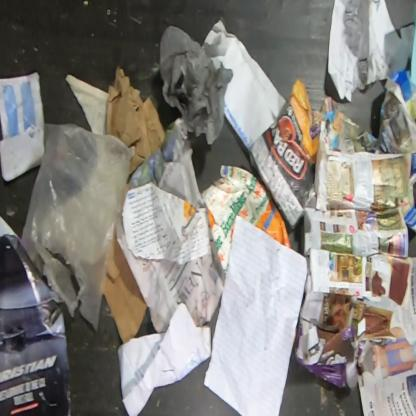cardboard: (203, 166, 292, 278), (108, 65, 166, 179), (104, 237, 148, 345)
soft_plastic: (19, 123, 136, 331), (160, 26, 233, 146)
